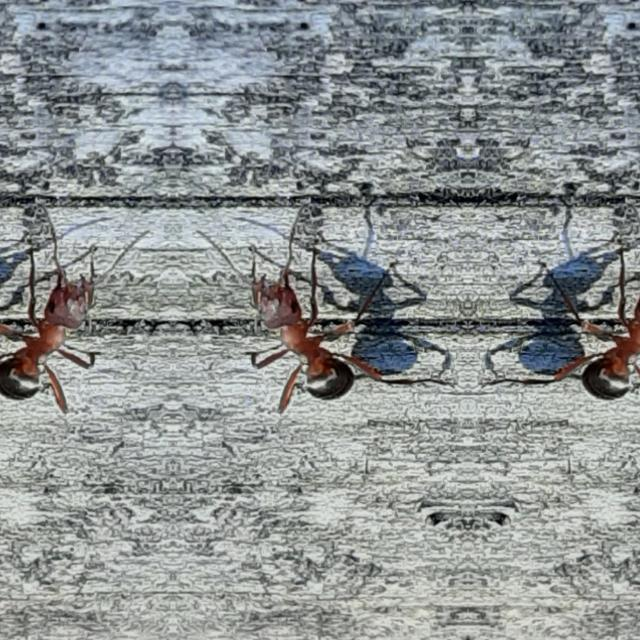Formica: (212, 222, 412, 428), (0, 222, 132, 428), (522, 222, 640, 428)
